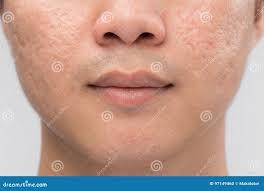Englarged-Pores: (187, 14, 241, 69)
Oily-Skin: (36, 7, 76, 60)
